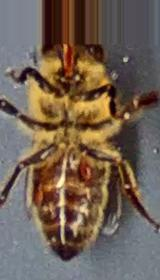varroa_mite: (67, 148, 101, 182)
